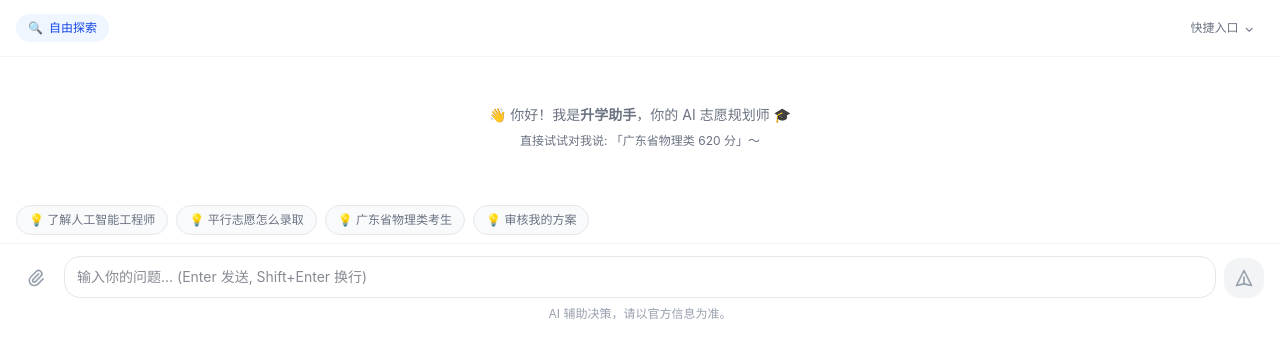
HomePage chat send › sends input through /api/chat/stream and renders streamed assistant deltas
Type "广东物理 620 分怎么报" into the text box labelled "输入你的问题" at [640, 277], box [64,256,1216,298]
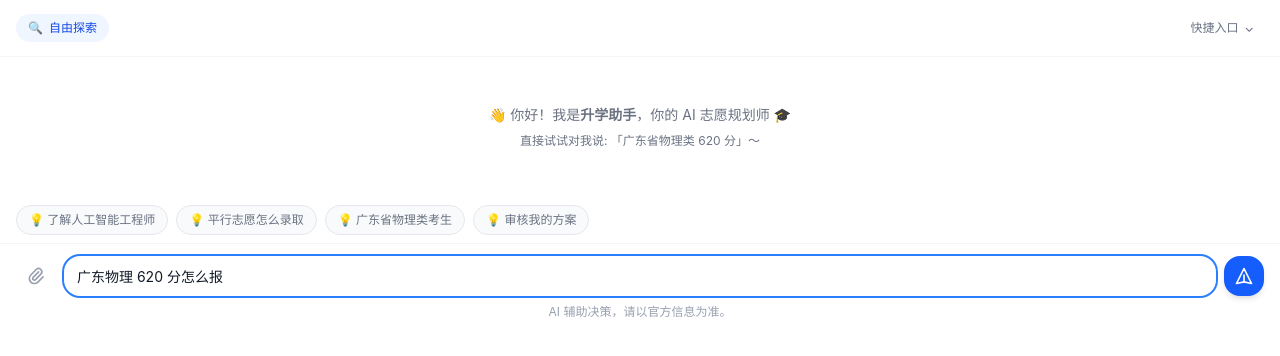
Click the button named "发送消息" at [1244, 276], box [1224,256,1264,296]
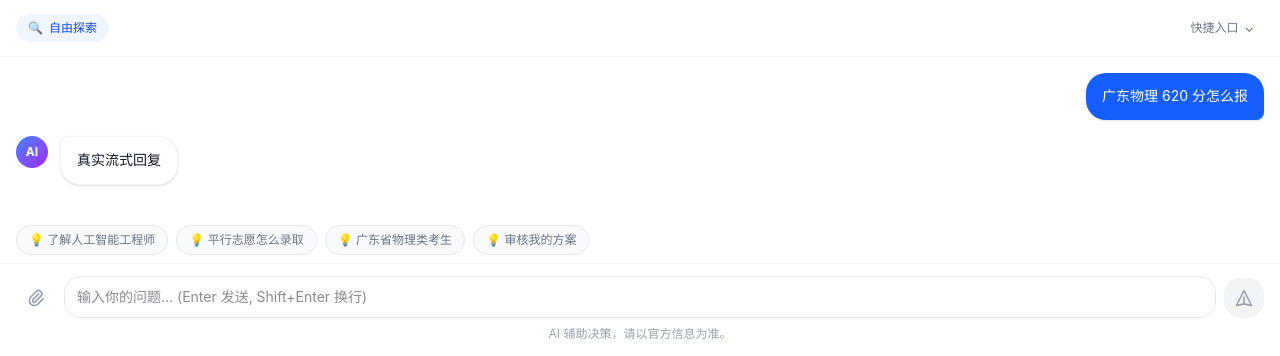
Result: the text "广东物理 620 分怎么报" is shown at [1102,85,1248,108]
Result: the text "真实流式回复" is shown at [77,149,161,172]
